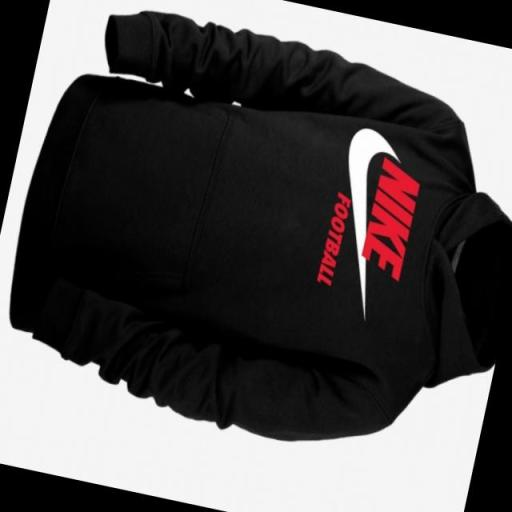Nike: (317, 118, 393, 280), (354, 156, 424, 277)
